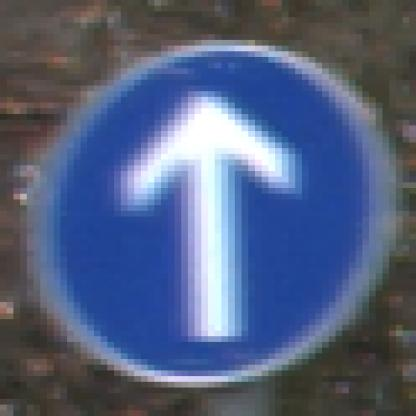AheadOnly: (35, 41, 384, 383)
